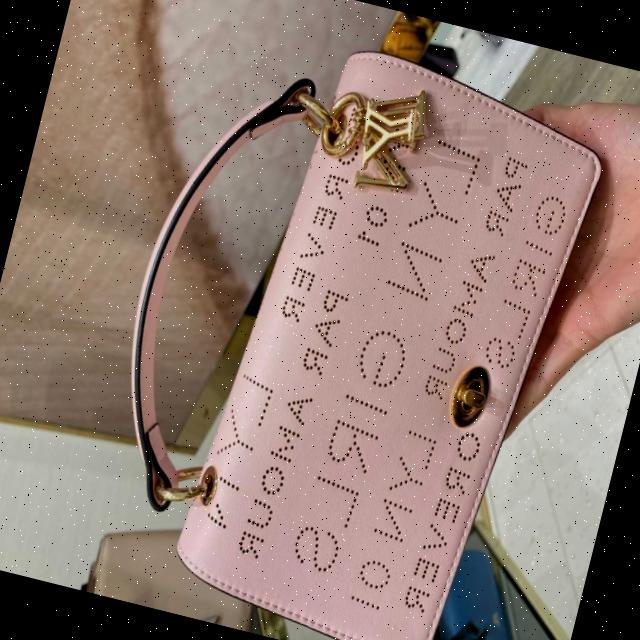handbag: (147, 11, 625, 640)
